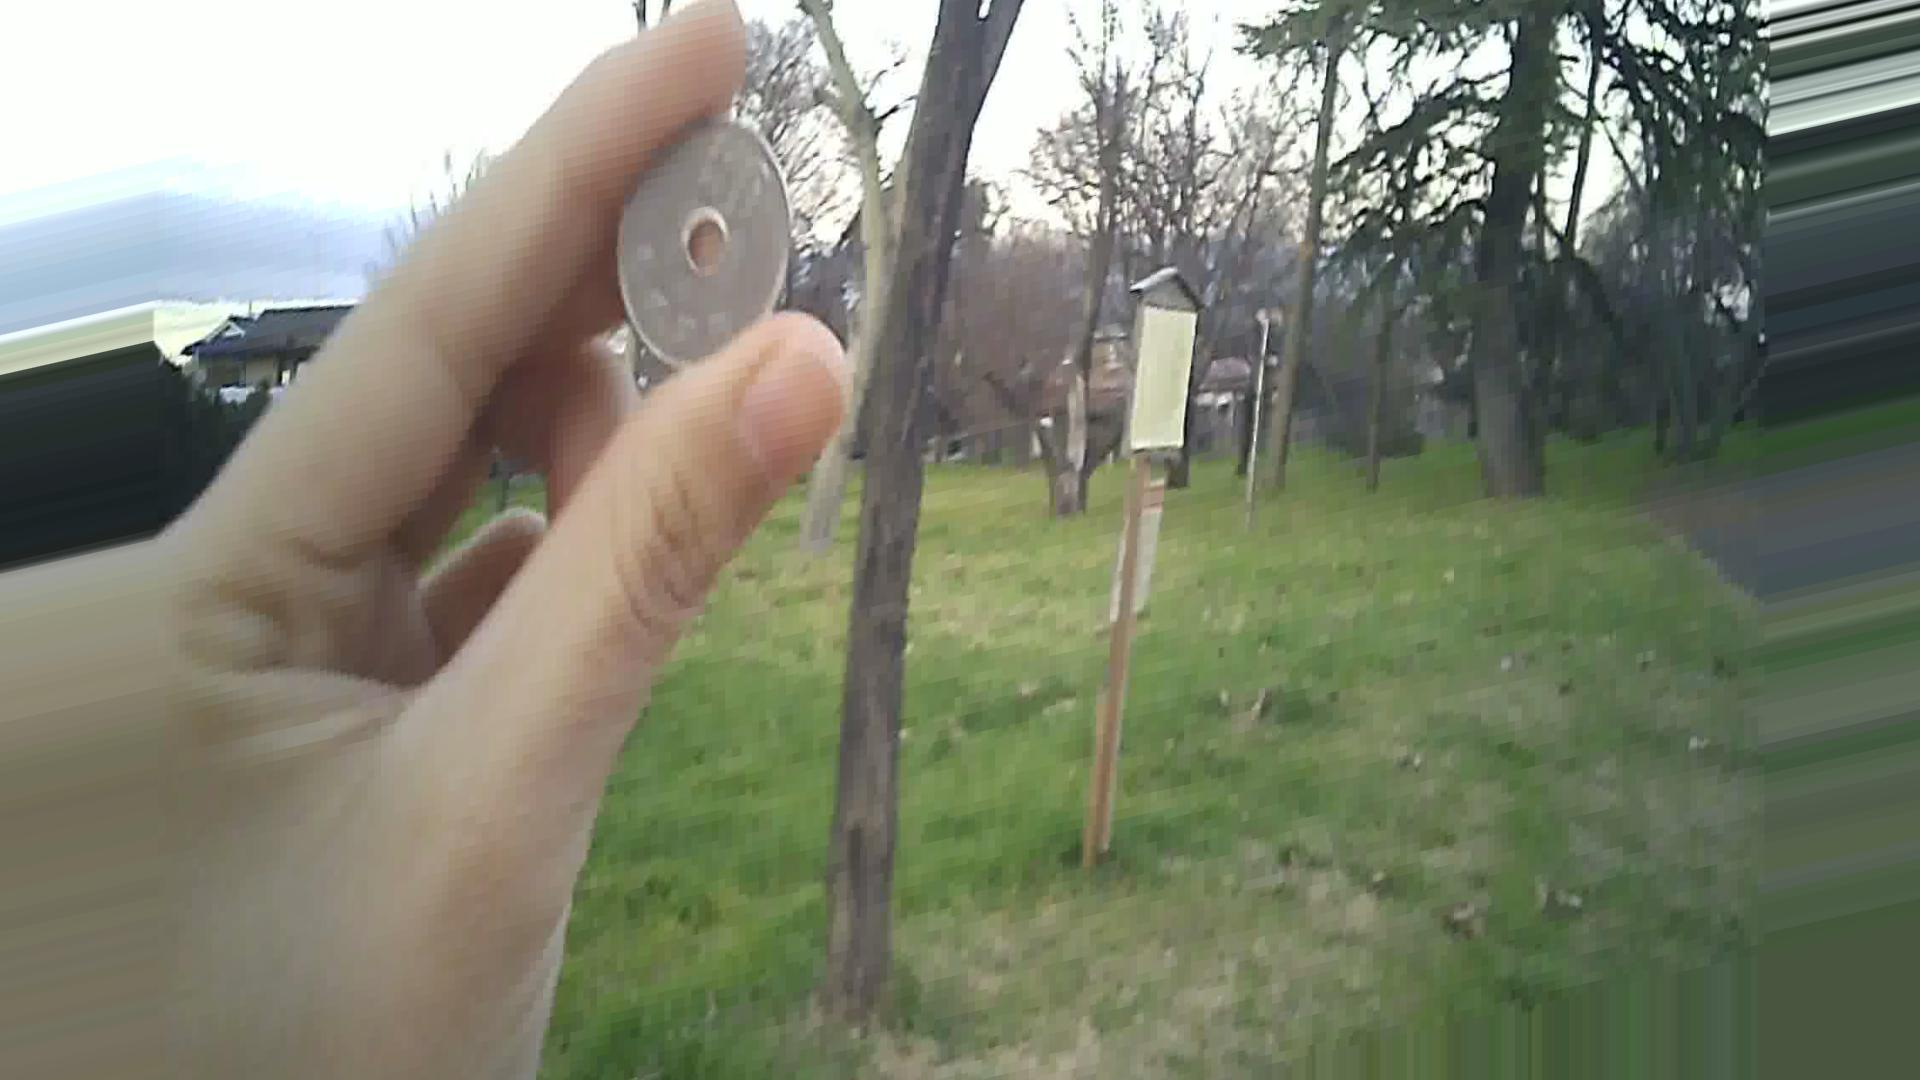50 Yen: (617, 116, 786, 371)
